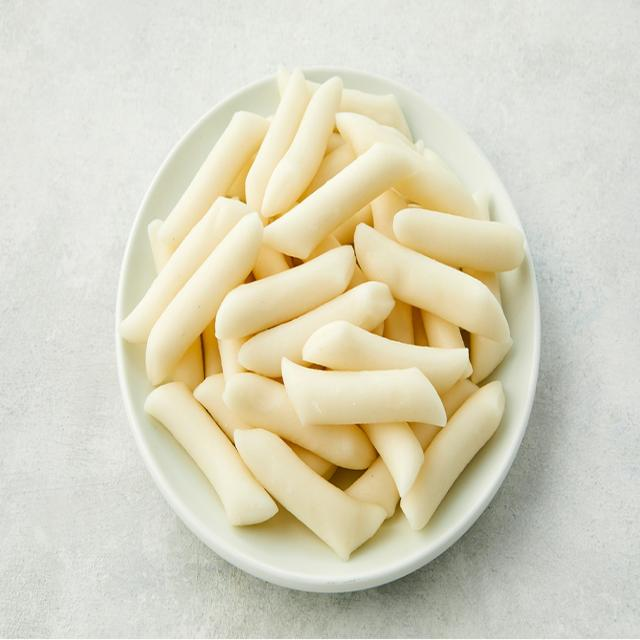rice_cake: (111, 57, 543, 583)
